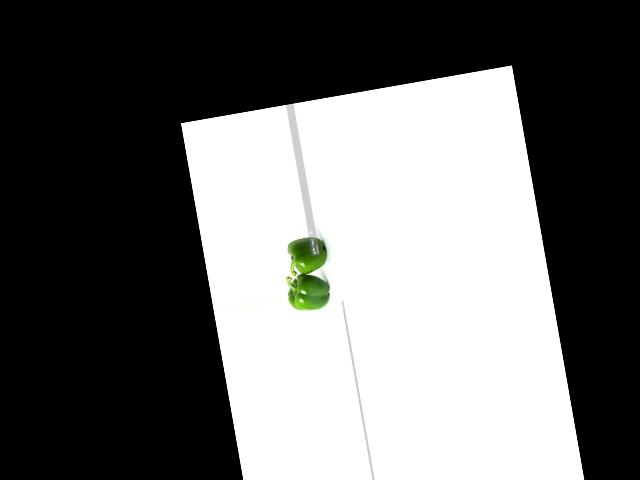bell_pepper: (282, 269, 338, 314)
